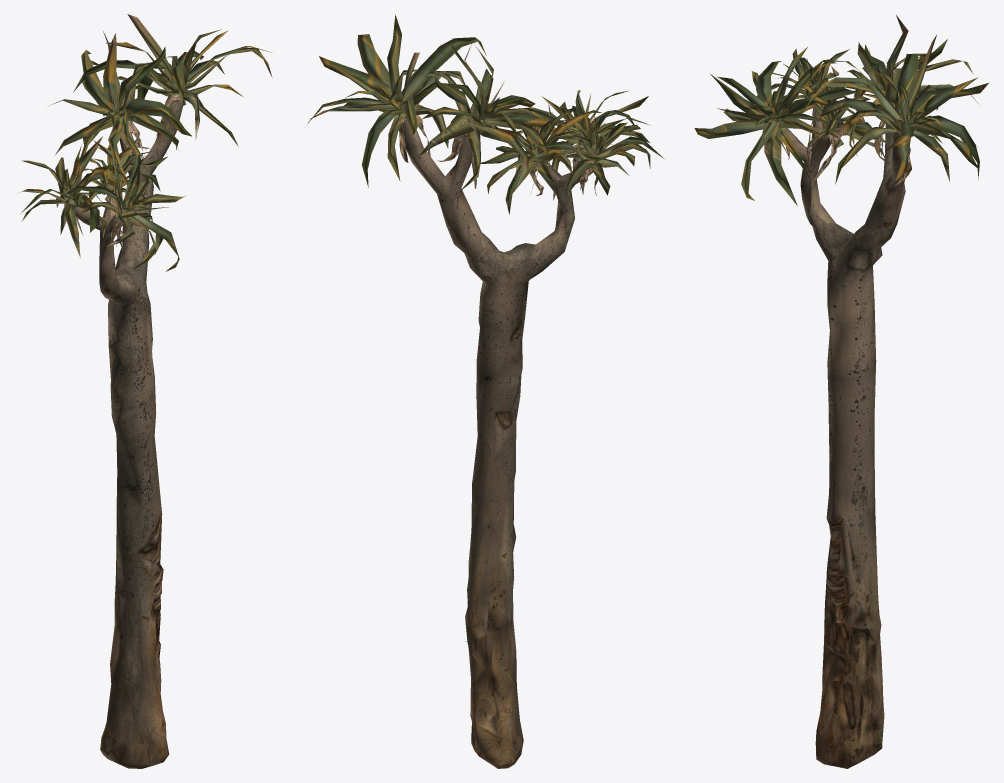
The model's file is ph_quiver_tree_01.glb.
The picture shows the model from 3 angles, left to right: view 1: azimuth 30°, elevation 25°; view 2: azimuth 150°, elevation 25°; view 3: azimuth 270°, elevation 25°; orthographic projection. The views are drawn at different scales.
Parts seen in each view (by area): view 1: quiver_tree_01; view 2: quiver_tree_01; view 3: quiver_tree_01.
Boxes of the visible parts, x1,y1,x2,y2 form: quiver_tree_01: (20,14,272,768); quiver_tree_01: (307,14,663,768); quiver_tree_01: (694,15,988,768).
Bounding box in the file's own units: 1.18 × 2.71 × 0.968.
Materials: 2 (2 with a texture image).
